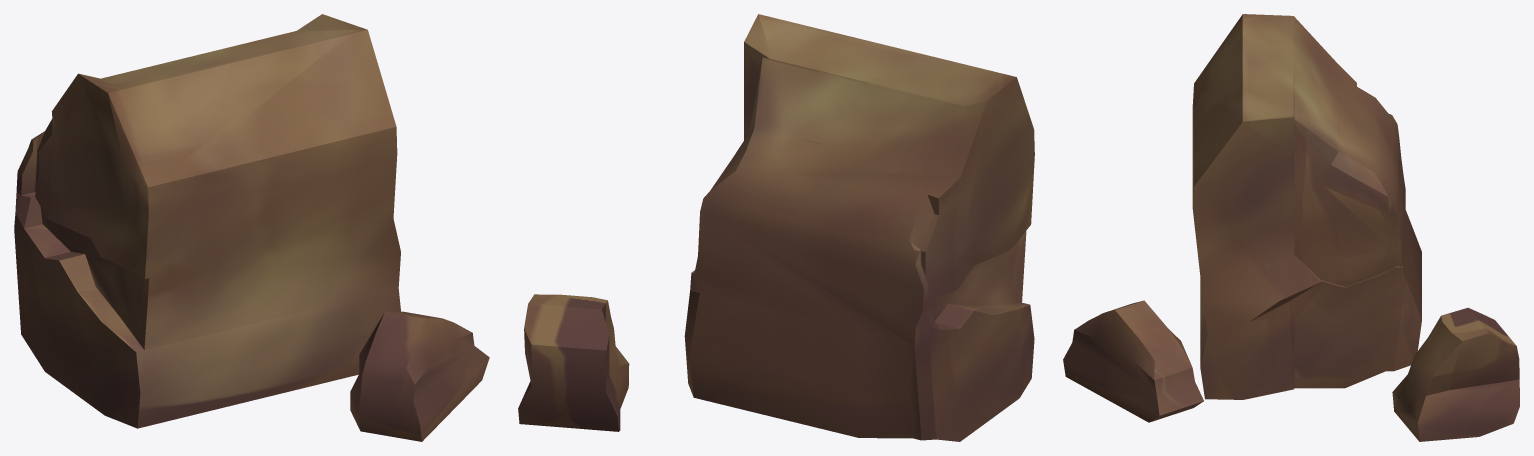
The model's file is batu6.fbx.
3 renders of one model, left to right at view 1: azimuth 30°, elevation 25°; view 2: azimuth 150°, elevation 25°; view 3: azimuth 270°, elevation 25°, orthographic. The views are drawn at different scales.
Visible parts, largest first — view 1: batu6; view 2: batu6; view 3: batu6.
Part boxes in pixels (x1,y1,x2,y2): batu6: (14, 14, 489, 441); batu6: (518, 14, 1034, 441); batu6: (1063, 14, 1519, 441).
Size of the model in its own units: 365 by 299 by 448.
